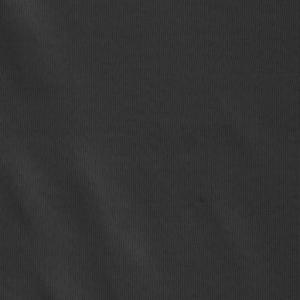Wrinkle: (1, 1, 169, 300)
